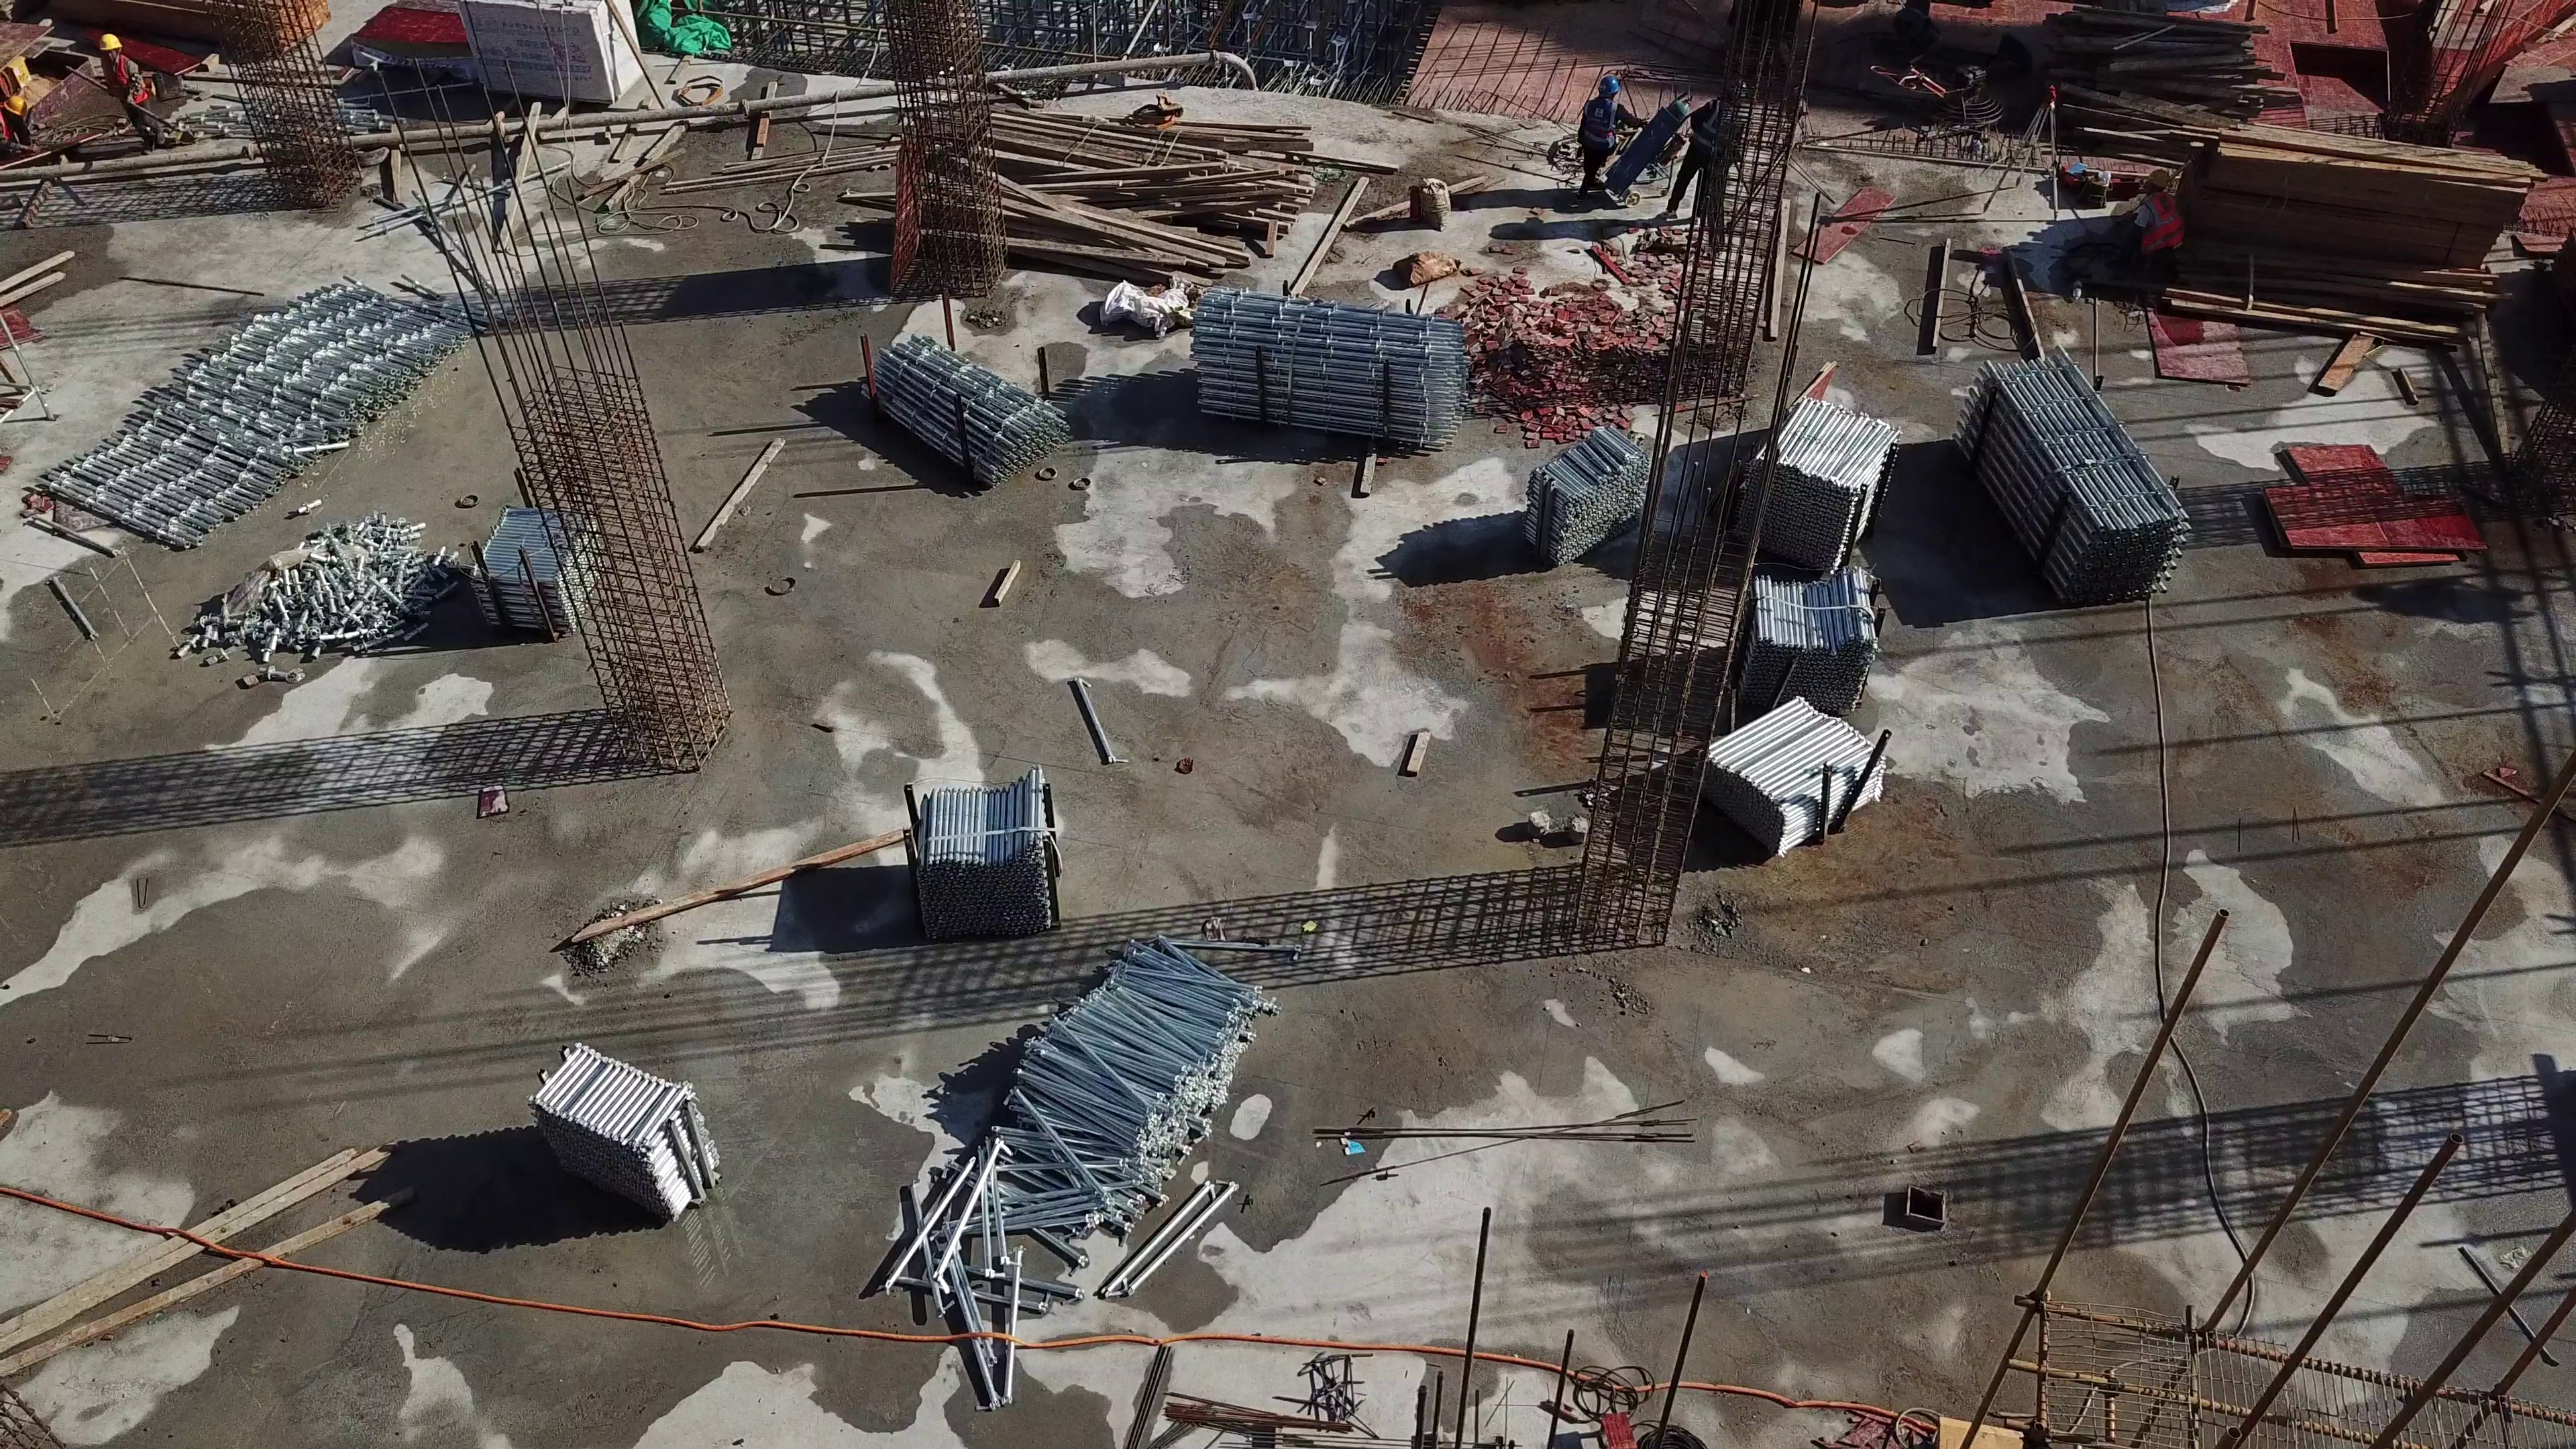board: (2265, 427, 2498, 577)
helmet: (1594, 72, 1622, 97), (98, 31, 124, 53), (2147, 166, 2169, 188)
person: (1657, 83, 1749, 227), (1574, 71, 1656, 201), (96, 30, 176, 152), (2122, 160, 2182, 291)
scaffold: (29, 270, 490, 553), (1004, 945, 1273, 1225), (1953, 349, 2194, 619), (1177, 284, 1477, 453), (1672, 694, 1896, 862), (523, 1042, 722, 1225), (891, 764, 1058, 945), (1741, 392, 1906, 573), (1735, 563, 1883, 718), (1505, 414, 1655, 564)
wood: (2191, 103, 2538, 370), (907, 87, 1345, 297)
